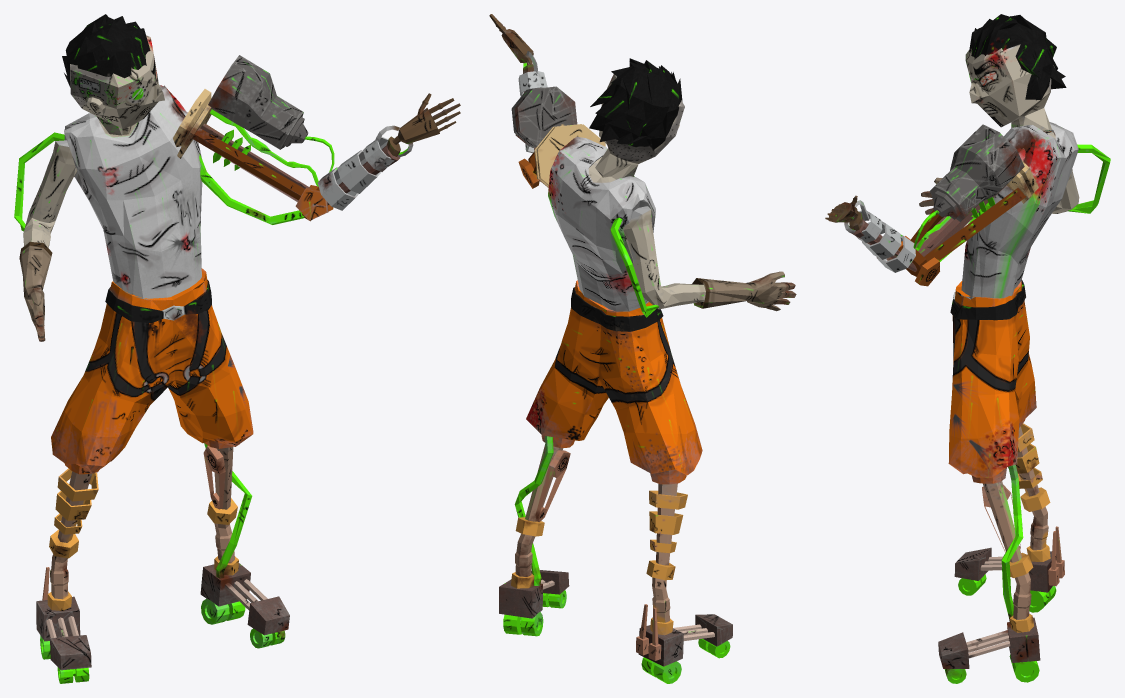
Rendered from CyborgFINALAnimation_000031.obj.
The picture shows the model from 3 angles, left to right: view 1: azimuth 30°, elevation 25°; view 2: azimuth 150°, elevation 25°; view 3: azimuth 270°, elevation 25°; orthographic projection. The views are drawn at different scales.
Parts seen in each view (by area): view 1: CyborgMesh_Cube.002; view 2: CyborgMesh_Cube.002; view 3: CyborgMesh_Cube.002.
Part boxes in pixels (box(x1,y1,x2,y2)): CyborgMesh_Cube.002: box(14, 14, 460, 683); CyborgMesh_Cube.002: box(489, 14, 796, 683); CyborgMesh_Cube.002: box(825, 14, 1110, 683).
Bounding box in the file's own units: 5.83 × 9.53 × 4.06.
